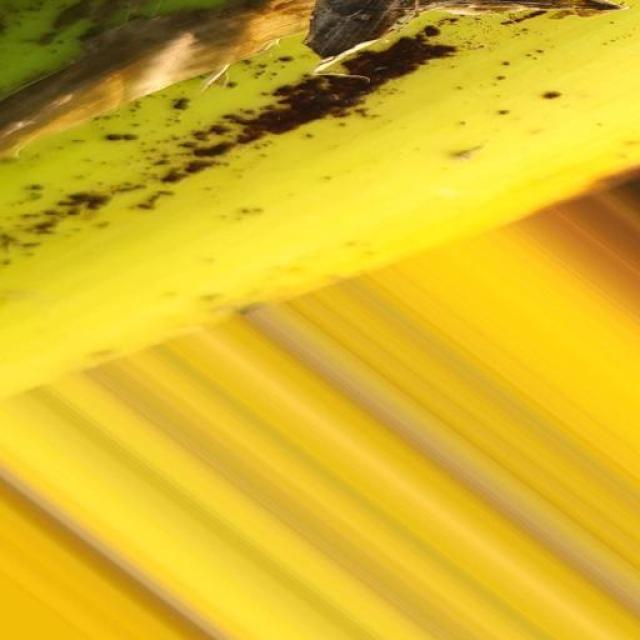Anthracnose: (5, 0, 640, 408)
